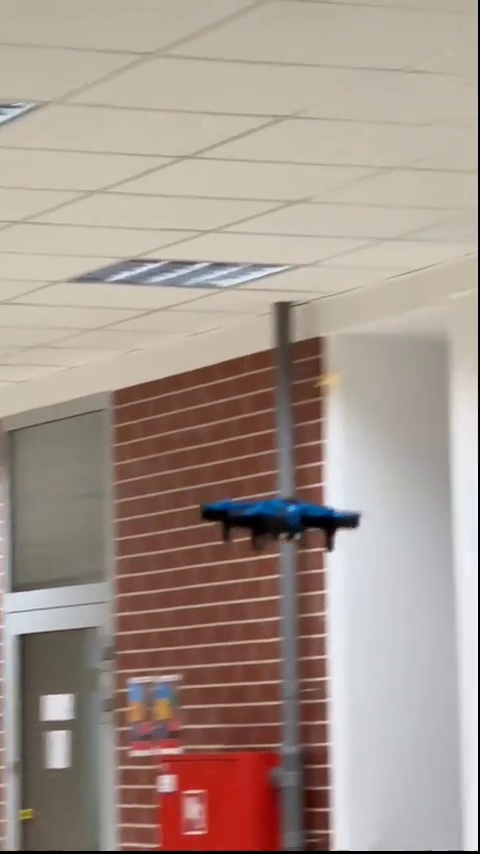drone: (204, 498, 365, 554)
